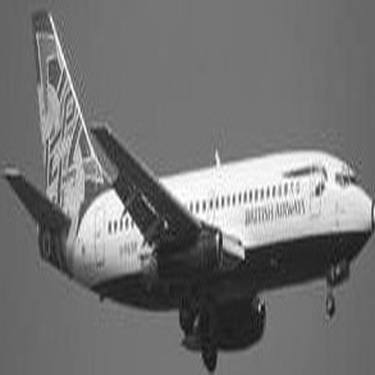airplane: (7, 4, 371, 373)
